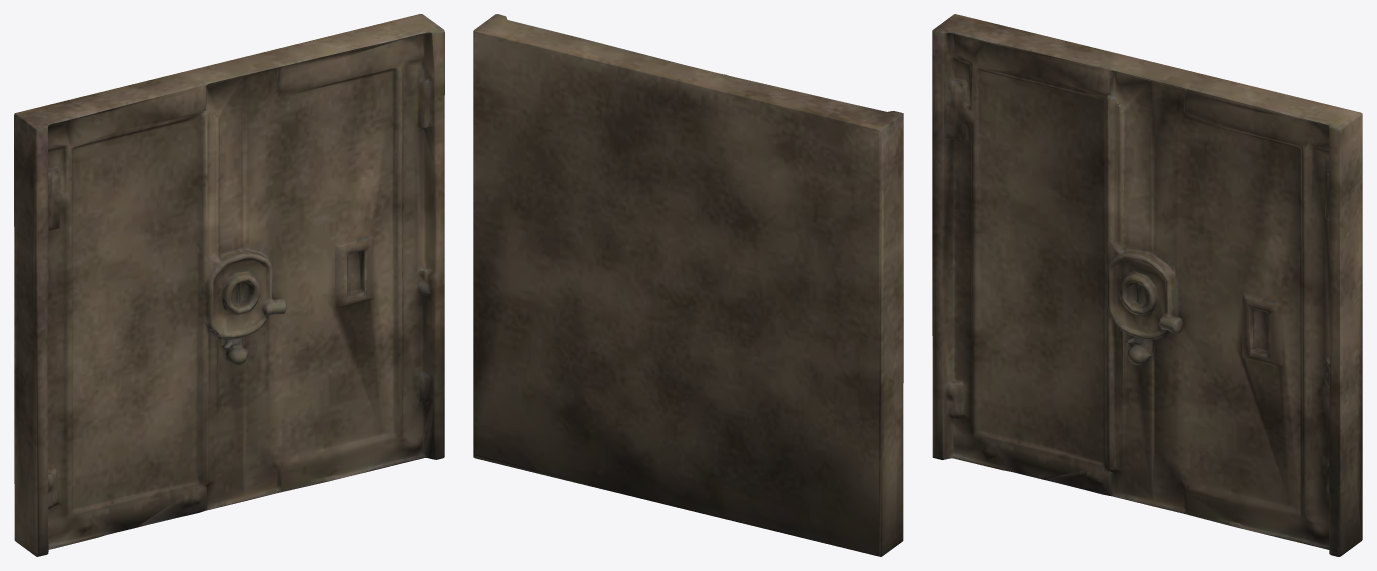
The model's file is chipped-wood-cell-door-v001.glb.
3 renders of one model, left to right at view 1: azimuth 30°, elevation 25°; view 2: azimuth 150°, elevation 25°; view 3: azimuth 330°, elevation 25°, orthographic.
Parts seen in each view (by area): view 1: chipped-wood-cell-door; view 2: chipped-wood-cell-door; view 3: chipped-wood-cell-door.
Part boxes in pixels (x1,y1,x2,y2): chipped-wood-cell-door: (14, 14, 444, 556); chipped-wood-cell-door: (473, 14, 903, 556); chipped-wood-cell-door: (932, 14, 1362, 556).
Bounding box in the file's own units: 2.17 × 2.18 × 0.2465.
Materials: 1 (1 with a texture image).
